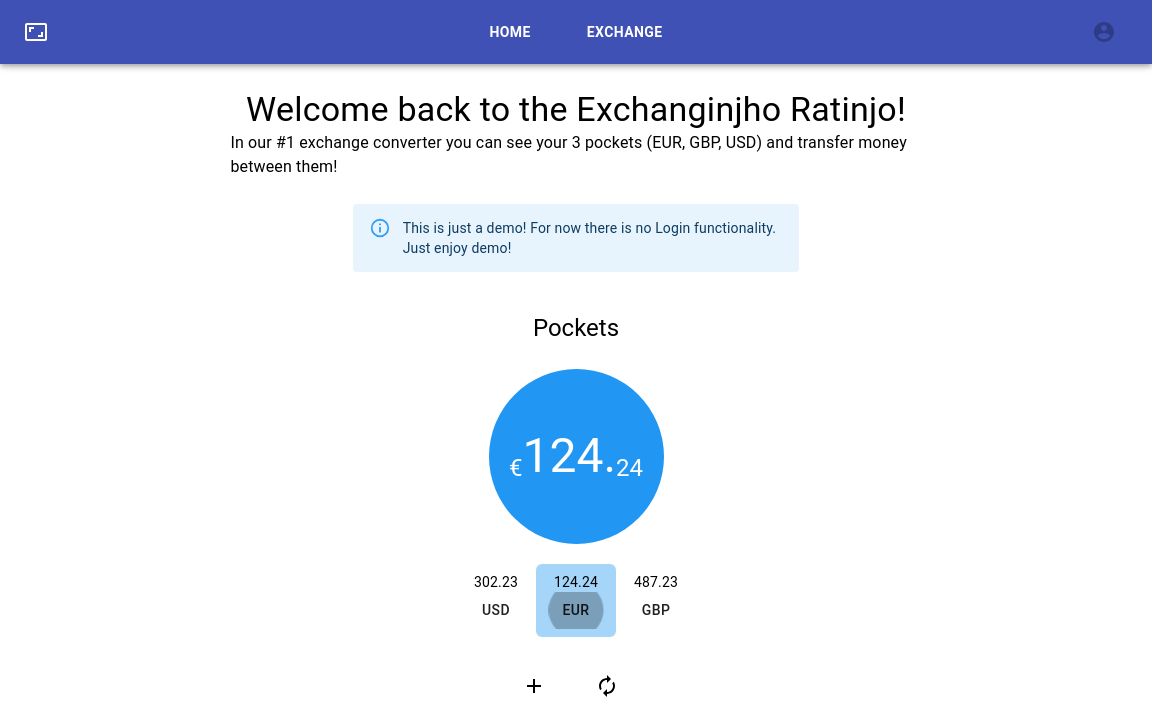
Test: <Home /> › after clicking top up should update pocket with +10
What coordinates should you click on to do the following:
click the button with test id "top-up"
I would click on:
 (534, 686)
Its box is [510, 662, 558, 710].
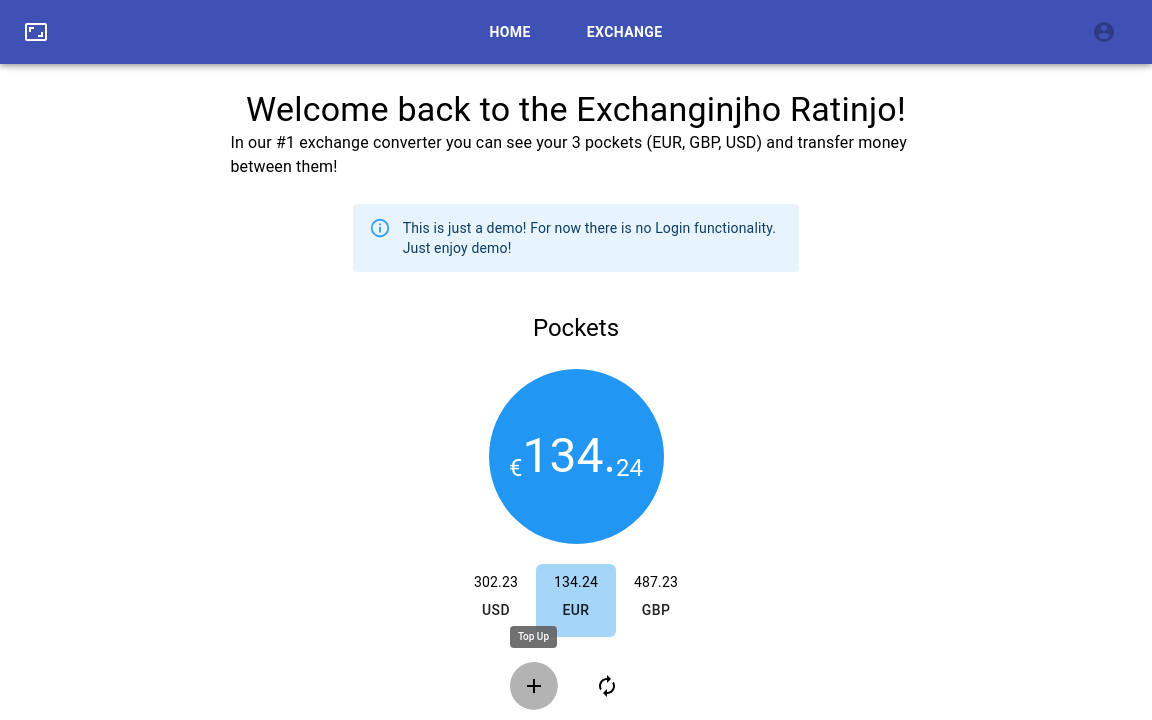
Expected: the heading with test id "pocket-amount" reads "134.", [523, 428, 617, 484]
Expected: the element with test id "pocket" reads "134.24 EUR", [536, 564, 616, 637]
Note: Switch to another pocket
What coordinates should you click on to do the following:
click the button with test id "pocket-switcher" showing "USD"
I would click on:
 (496, 611)
Its box is [464, 592, 528, 629].
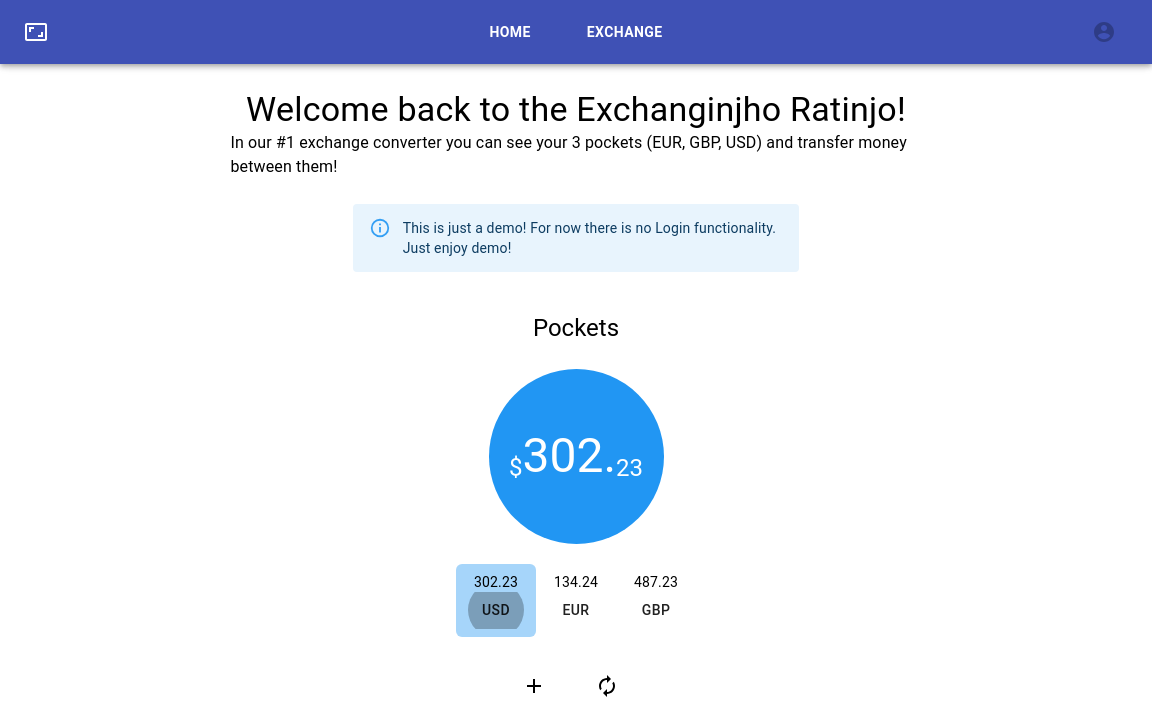
What coordinates should you click on to do the following:
click the button with test id "top-up"
I would click on:
 (534, 686)
Its box is [510, 662, 558, 710].
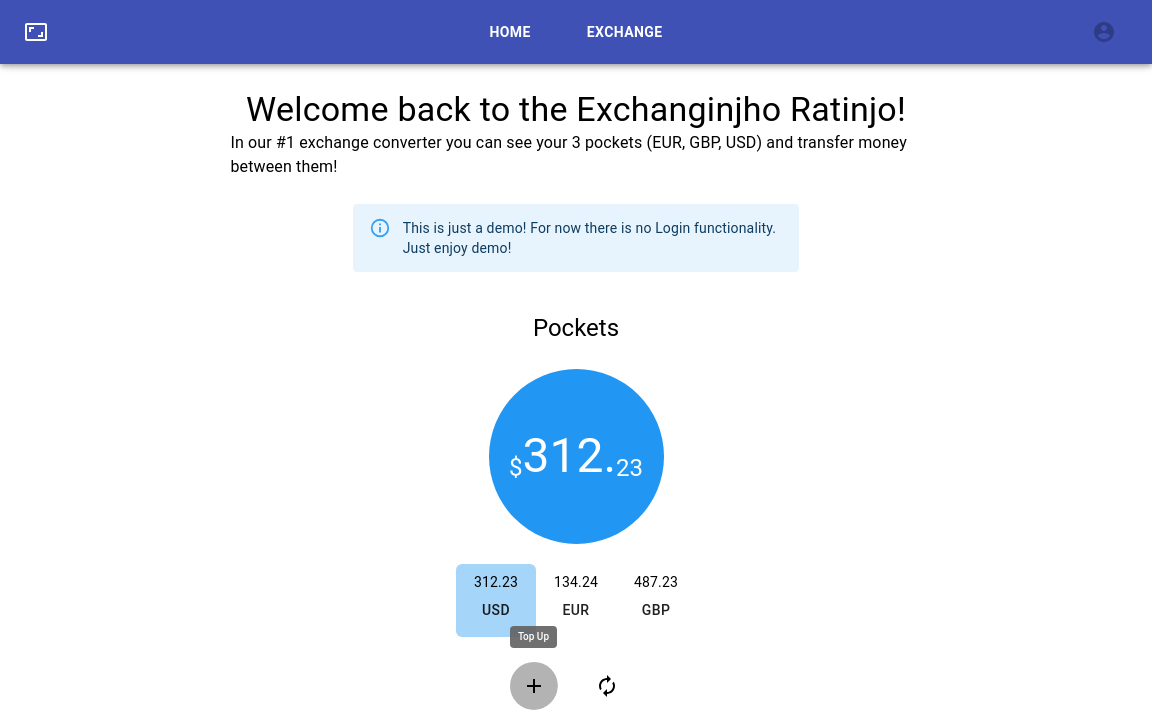
Expected: the heading with test id "pocket-amount" reads "312.", [523, 428, 617, 484]
Expected: the element with test id "pocket" reads "312.23 USD", [456, 564, 536, 637]
